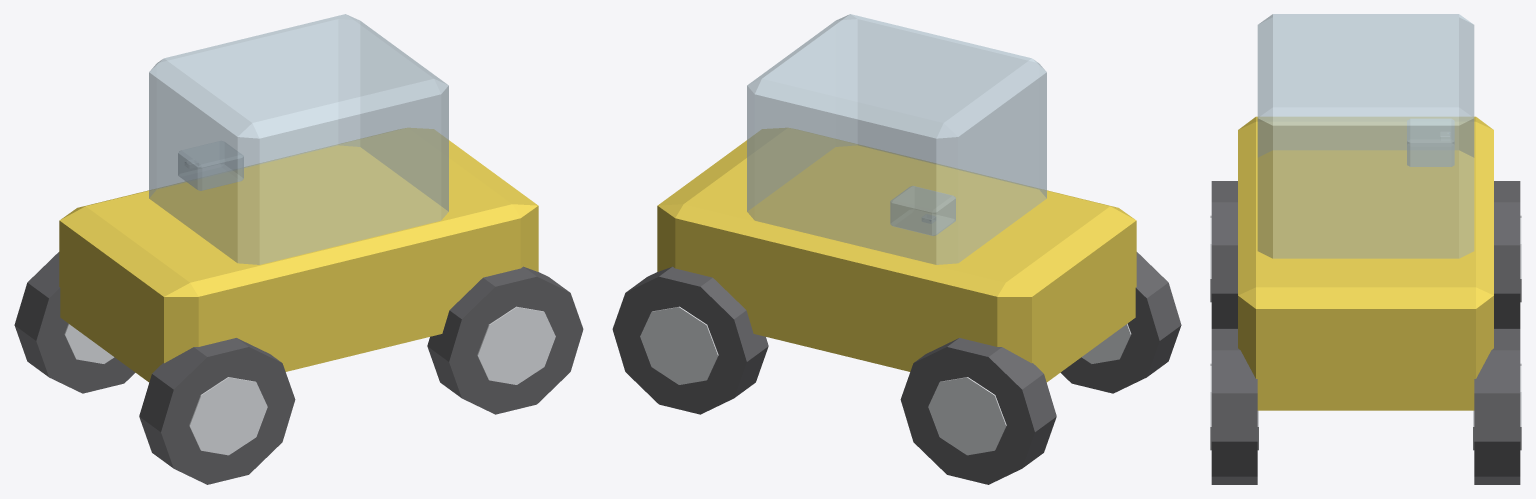
The model's file is b07_wheeled_skid_steer_loader.glb.
3 views of the same model, side by side, from view 1: azimuth 30°, elevation 25°; view 2: azimuth 150°, elevation 25°; view 3: azimuth 270°, elevation 25° (orthographic). The views are drawn at different scales.
Visible parts, largest first — view 1: b07_wheeled_skid_steer_loader; view 2: b07_wheeled_skid_steer_loader; view 3: b07_wheeled_skid_steer_loader.
Part boxes in pixels (x1,y1,x2,y2): b07_wheeled_skid_steer_loader: (14, 14, 583, 484); b07_wheeled_skid_steer_loader: (612, 14, 1181, 484); b07_wheeled_skid_steer_loader: (1210, 14, 1521, 484).
Size of the model in its own units: 3.03 by 2.21 by 1.84.
